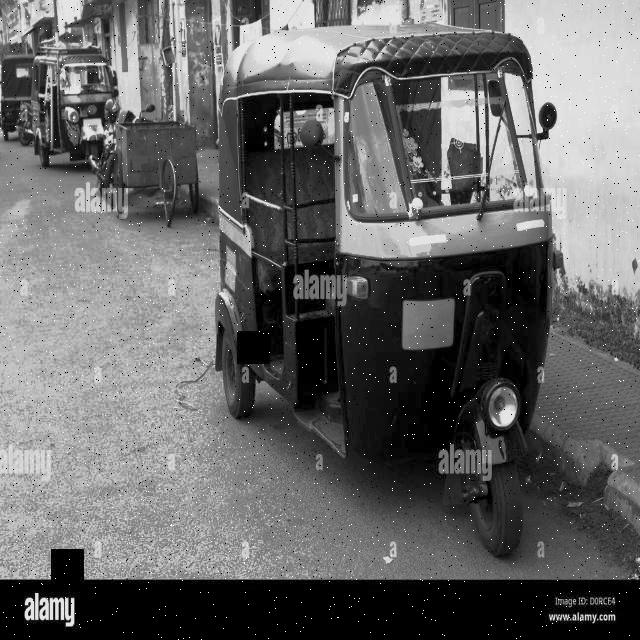Auto-Rickshaw: (213, 18, 551, 572)
